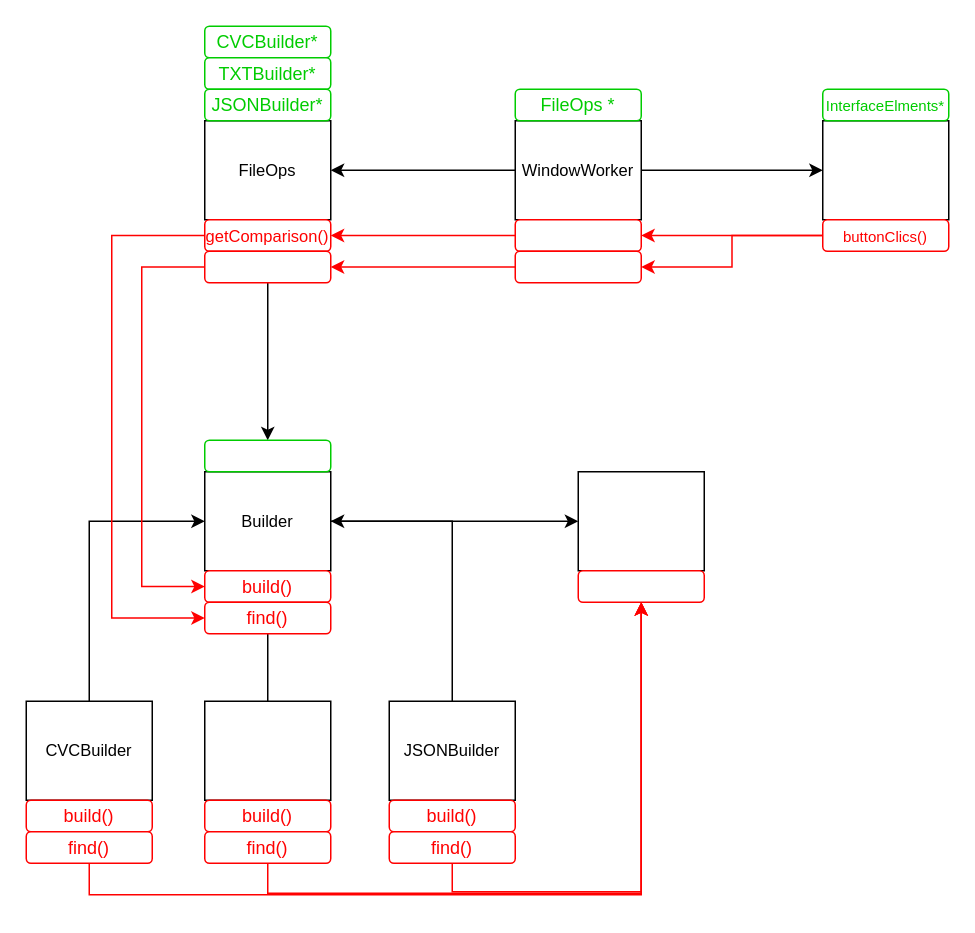
The diagram is 975 pixels wide and 933 high, and some of its shapes have lost their labels. Here are the shapes that lost their labels. From the top down, the centre of each, then its label:
At (x=885, y=169): "MainWindow".
At (x=577, y=234): "compareData()".
At (x=267, y=266): "ConstractXml()".
At (x=577, y=266): "extractFle()".
At (x=267, y=455): "XMLMaker*".
At (x=640, y=520): "XMLMaker".
At (x=640, y=585): "setData()".
At (x=267, y=750): "TXTBuilder".
